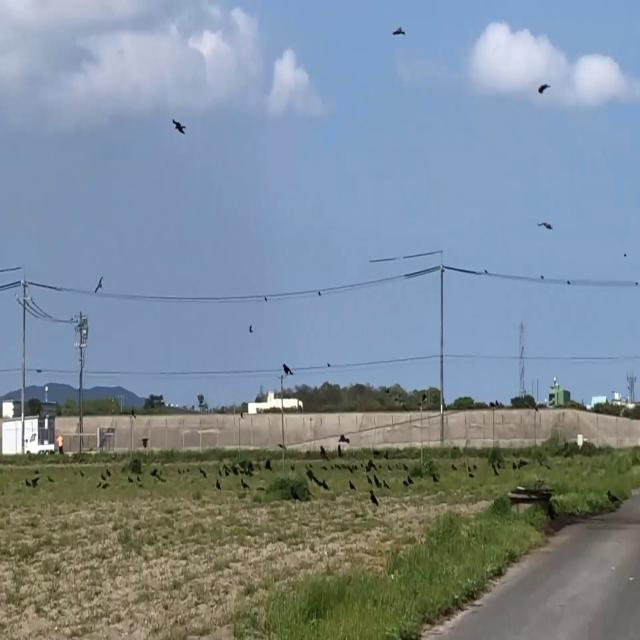bird: (172, 112, 186, 141), (538, 212, 552, 236), (392, 20, 406, 42), (538, 76, 549, 100), (95, 270, 102, 301), (282, 359, 292, 380), (371, 482, 377, 510), (349, 475, 354, 493), (512, 456, 515, 474), (383, 474, 386, 492)
